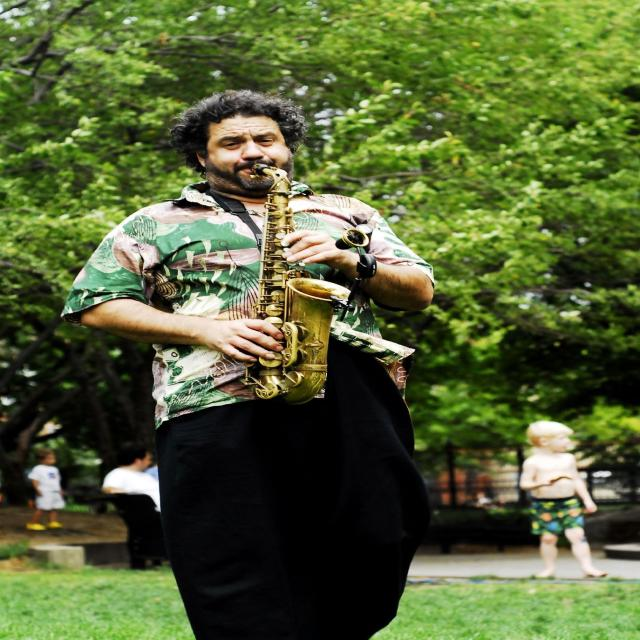saxophone: (248, 161, 356, 408)
